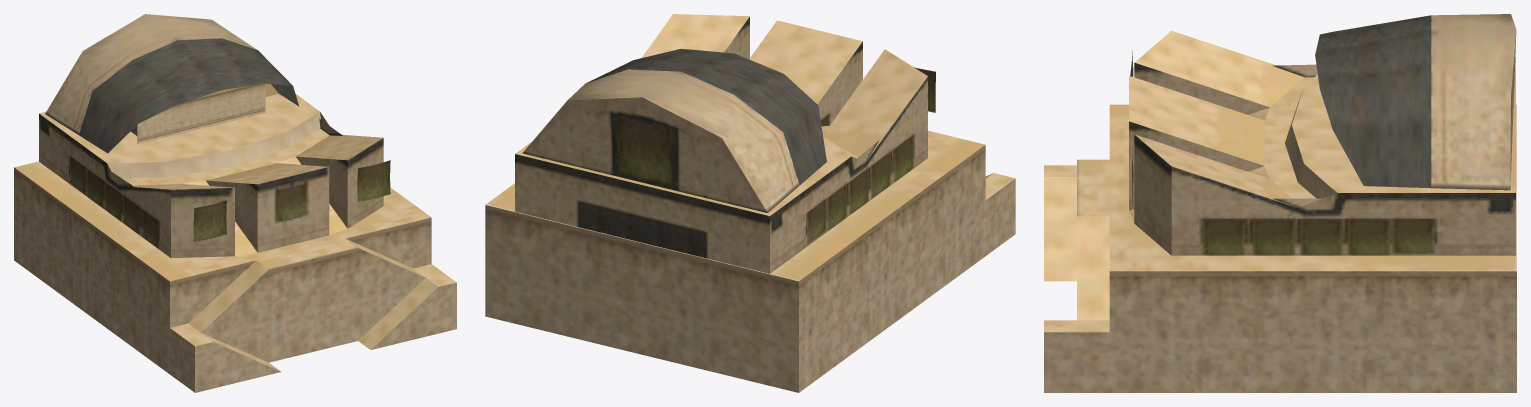
The model's file is ply_tato_theater_s01_r0_exterior_mesh_l2.fbx.
3 renders of one model, left to right at view 1: azimuth 30°, elevation 25°; view 2: azimuth 150°, elevation 25°; view 3: azimuth 270°, elevation 25°, orthographic. The views are drawn at different scales.
Parts seen in each view (by area): view 1: mesh_node; view 2: mesh_node; view 3: mesh_node.
Part boxes in pixels (bbox=[...]): mesh_node: bbox=[14, 14, 456, 392]; mesh_node: bbox=[485, 14, 1015, 392]; mesh_node: bbox=[1044, 14, 1516, 392].
Bounding box in the file's own units: 25.6 × 20.05 × 30.67.
1 material, 1 textured.
